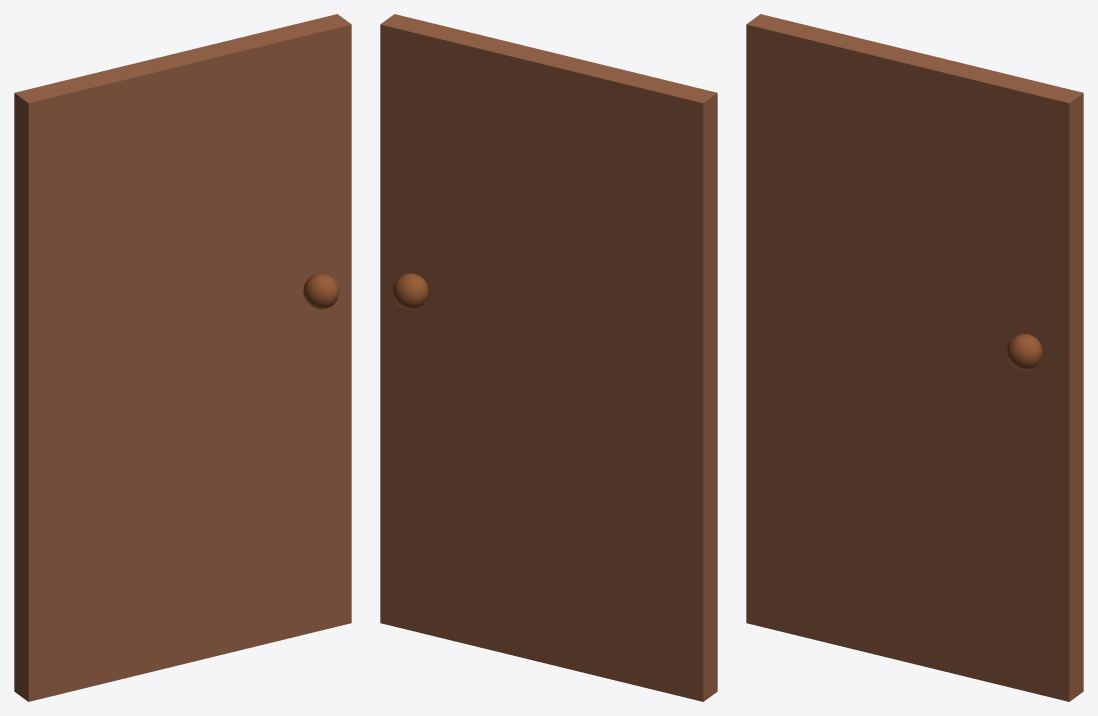
Rendered from Porta.fbx.
3 views of the same model, side by side, from view 1: azimuth 30°, elevation 25°; view 2: azimuth 150°, elevation 25°; view 3: azimuth 330°, elevation 25° (orthographic).
Visible parts, largest first — view 1: Cube; view 2: Cube; view 3: Cube.
Boxes of the visible parts, box(x1,y1,x2,y2) form: Cube: box(14, 14, 351, 701); Cube: box(380, 14, 717, 701); Cube: box(746, 14, 1083, 701).
Size of the model in its own units: 195 by 346 by 49.22.
